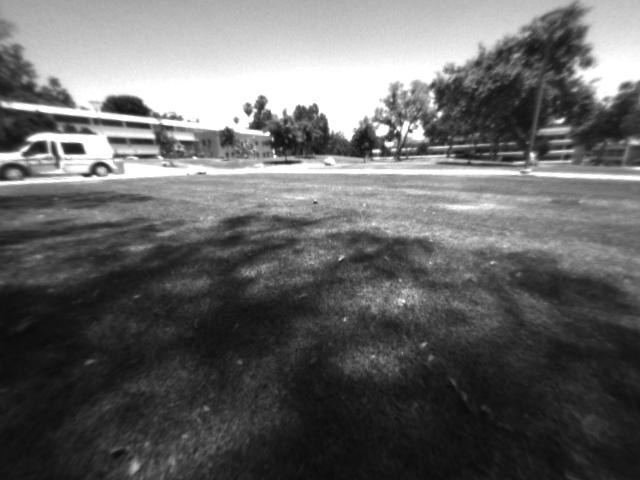dogtoy: (308, 193, 325, 207)
